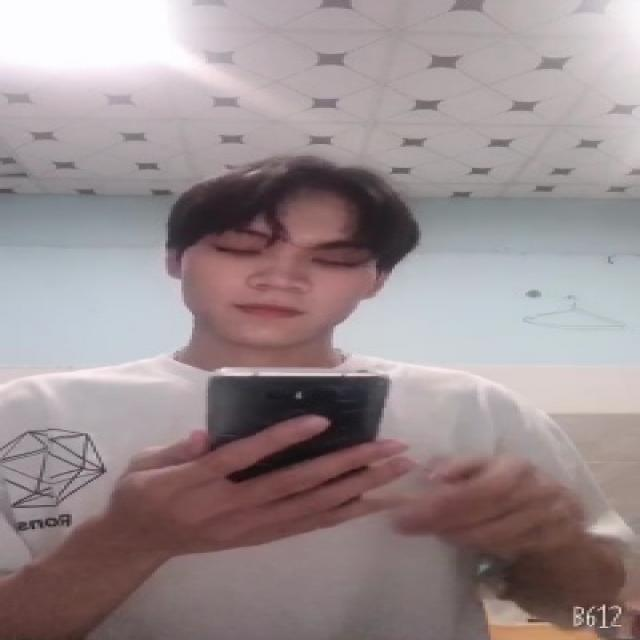Phone: (203, 364, 393, 489)
